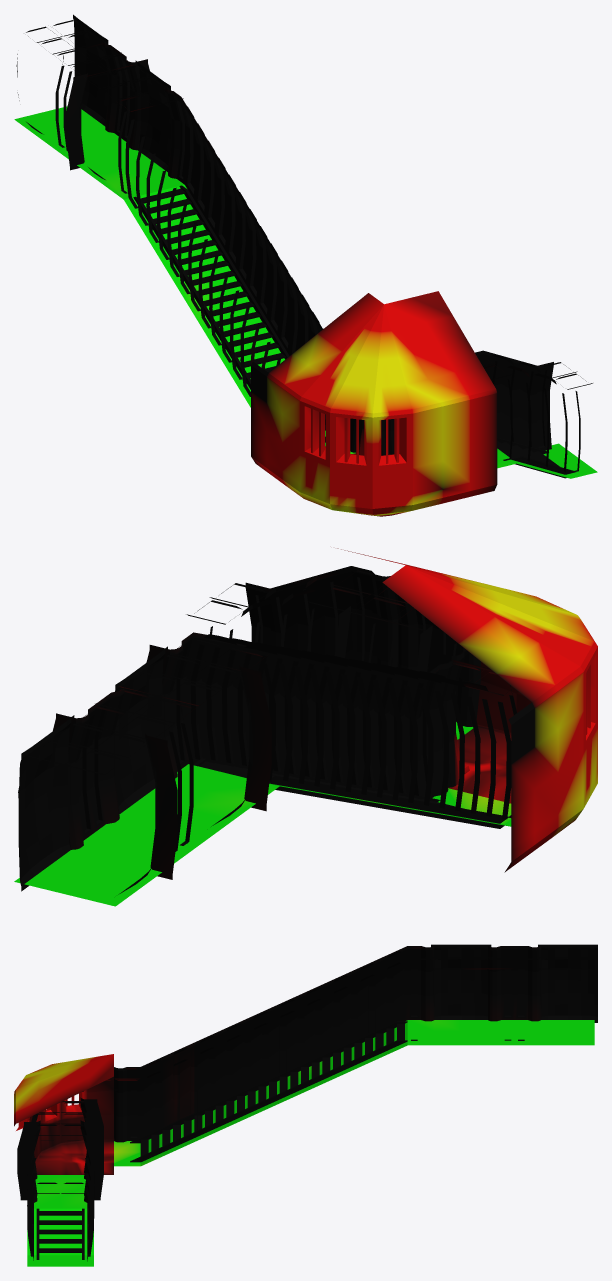
File: corridor_e.glb
The picture shows the model from 3 angles, top to bottom: view 1: azimuth 30°, elevation 25°; view 2: azimuth 150°, elevation 25°; view 3: azimuth 270°, elevation 25°; orthographic projection. The views are drawn at different scales.
Parts seen in each view (by area): view 1: Corridor_E_Ceiling, Corridor_E_Wall_Panels, Corridor_E_Floor, Corridor_E_Stairs, Corridor_E_Stone_Wall; view 2: Corridor_E_Wall_Panels, Corridor_E_Ceiling, Corridor_E_Floor, Corridor_E_Stone_Wall, Corridor_E_Stairs; view 3: Corridor_E_Wall_Panels, Corridor_E_Floor, Corridor_E_Ceiling, Corridor_E_Stone_Wall, Corridor_E_Stairs.
Boxes of the visible parts, bbox=[...] form: Corridor_E_Ceiling: bbox=[26, 20, 592, 516]; Corridor_E_Wall_Panels: bbox=[55, 41, 580, 472]; Corridor_E_Floor: bbox=[14, 106, 597, 478]; Corridor_E_Stairs: bbox=[133, 185, 575, 478]; Corridor_E_Stone_Wall: bbox=[16, 14, 171, 179]; Corridor_E_Wall_Panels: bbox=[53, 566, 516, 879]; Corridor_E_Ceiling: bbox=[25, 548, 597, 872]; Corridor_E_Floor: bbox=[14, 722, 511, 906]; Corridor_E_Stone_Wall: bbox=[18, 646, 252, 894]; Corridor_E_Stairs: bbox=[193, 758, 508, 828]; Corridor_E_Wall_Panels: bbox=[17, 946, 541, 1261]; Corridor_E_Floor: bbox=[27, 1020, 594, 1266]; Corridor_E_Ceiling: bbox=[14, 947, 594, 1193]; Corridor_E_Stone_Wall: bbox=[431, 944, 597, 1022]; Corridor_E_Stairs: bbox=[36, 1021, 407, 1259].
Size of what is drawn, in the model's own units: 9.75 by 10.13 by 21.88.
